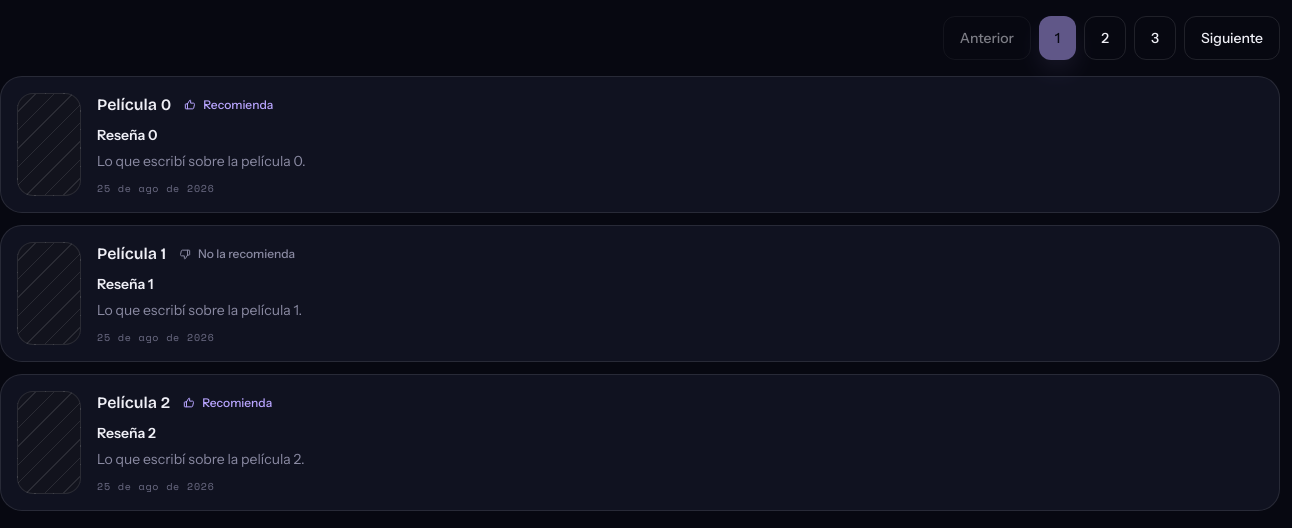
ProfileReviews › shows three at a time and walks to the rest
The image size is (1292, 528).
Check: the text "Reseña 2" is shown, box x1=97 y1=424 x2=156 y2=442
Click the button named "Página 3". click: click(1155, 38)
box: x1=1134 y1=16 x2=1176 y2=60
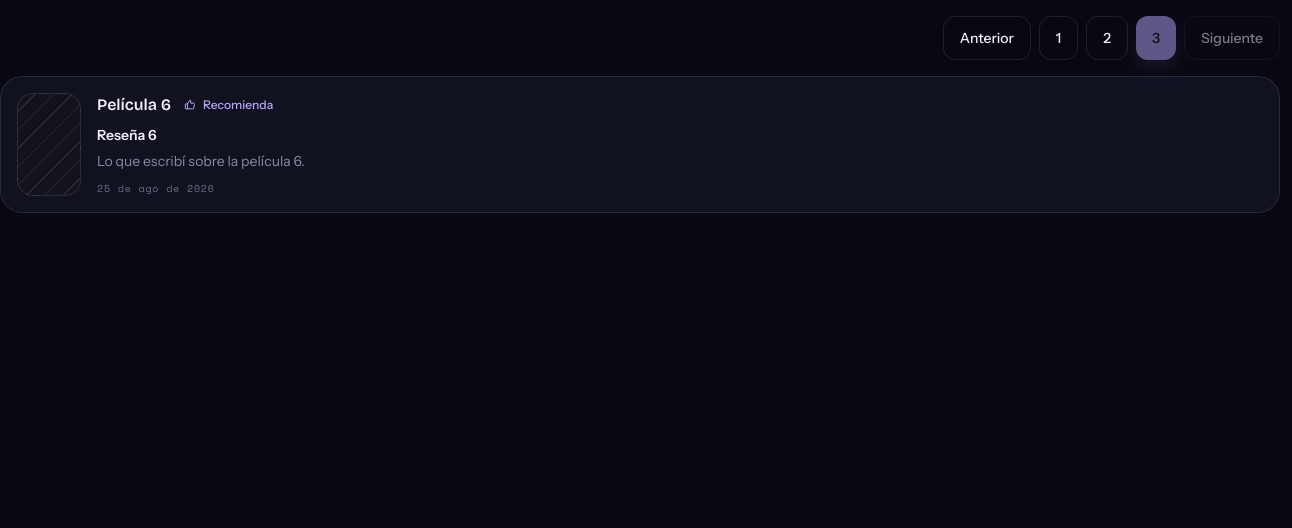
Check: the text "Reseña 6" is shown, box x1=97 y1=126 x2=157 y2=144
Check: the link "Reseña 2" is gone
